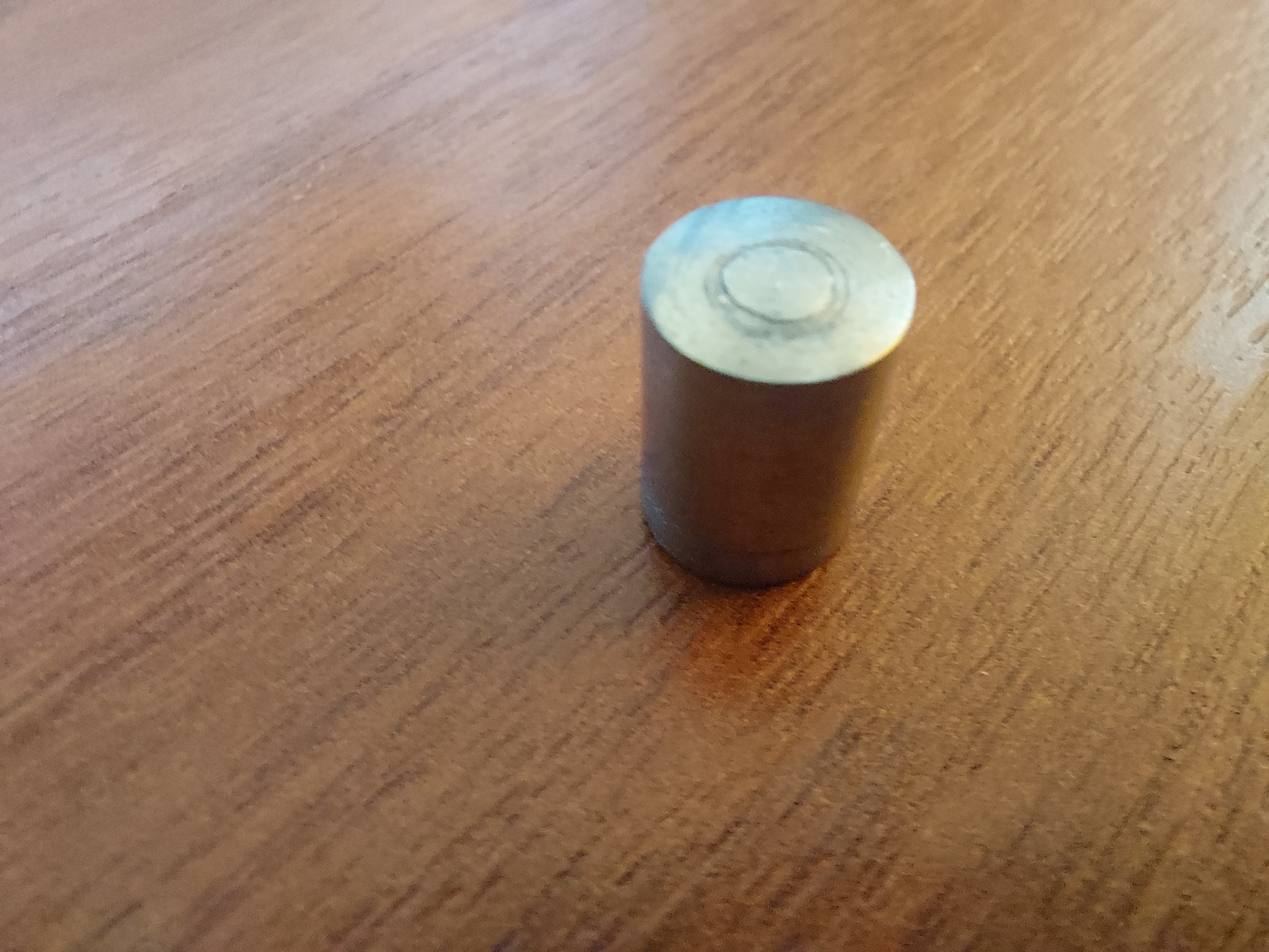tablet: (590, 173, 928, 620)
